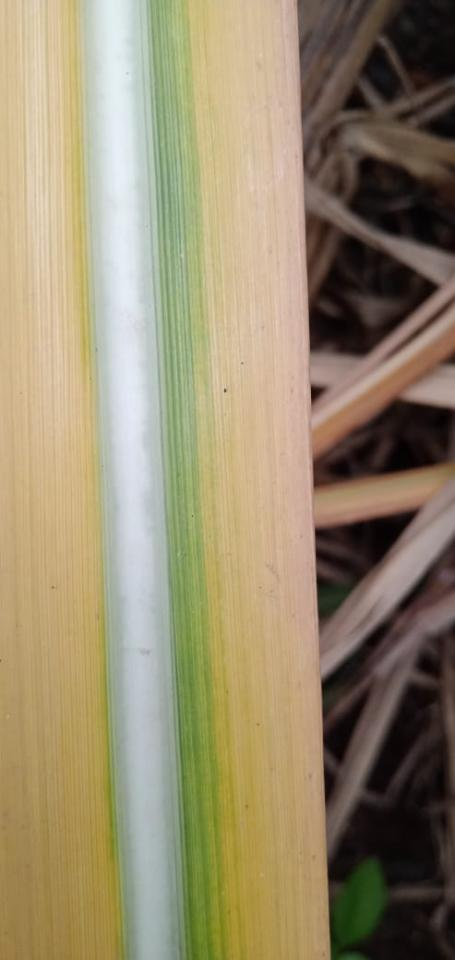Yellow: (186, 0, 330, 959), (0, 0, 121, 959)
